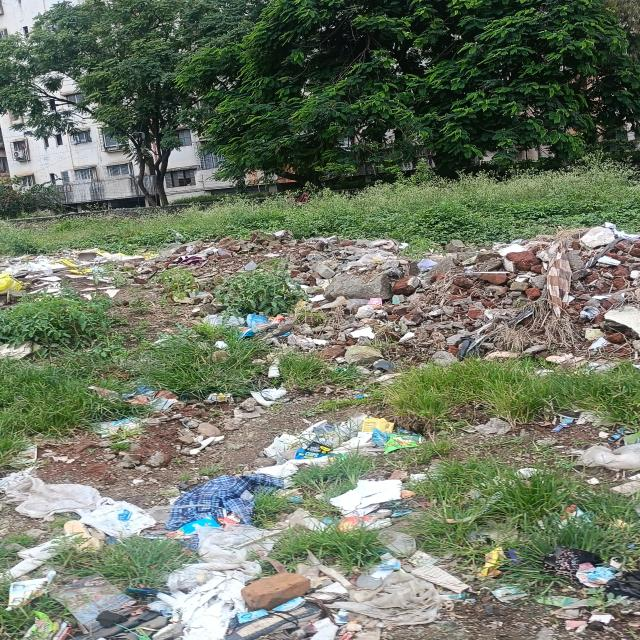garbage: (1, 415, 469, 628), (420, 240, 640, 372), (299, 237, 406, 305), (4, 248, 145, 298)
